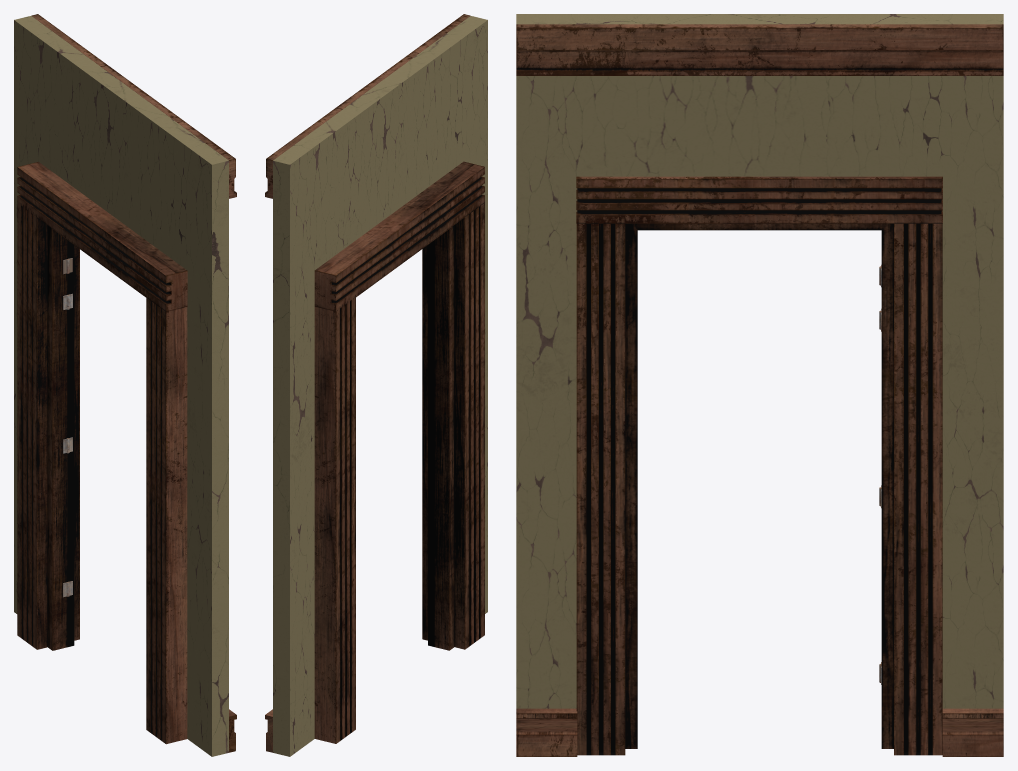
File: Wall_2m_Doorway_C.fbx
The picture shows the model from 3 angles, left to right: view 1: azimuth 30°, elevation 25°; view 2: azimuth 150°, elevation 25°; view 3: azimuth 270°, elevation 25°; orthographic projection. The views are drawn at different scales.
Visible parts, largest first — view 1: Wall_2m_Doorway_A.002; view 2: Wall_2m_Doorway_A.002; view 3: Wall_2m_Doorway_A.002.
Boxes of the visible parts, x1,y1,x2,y2 form: Wall_2m_Doorway_A.002: (14,14,236,756); Wall_2m_Doorway_A.002: (265,14,487,756); Wall_2m_Doorway_A.002: (516,14,1003,756).
Size of the model in its own units: 0.2708 by 3.3 by 2.
